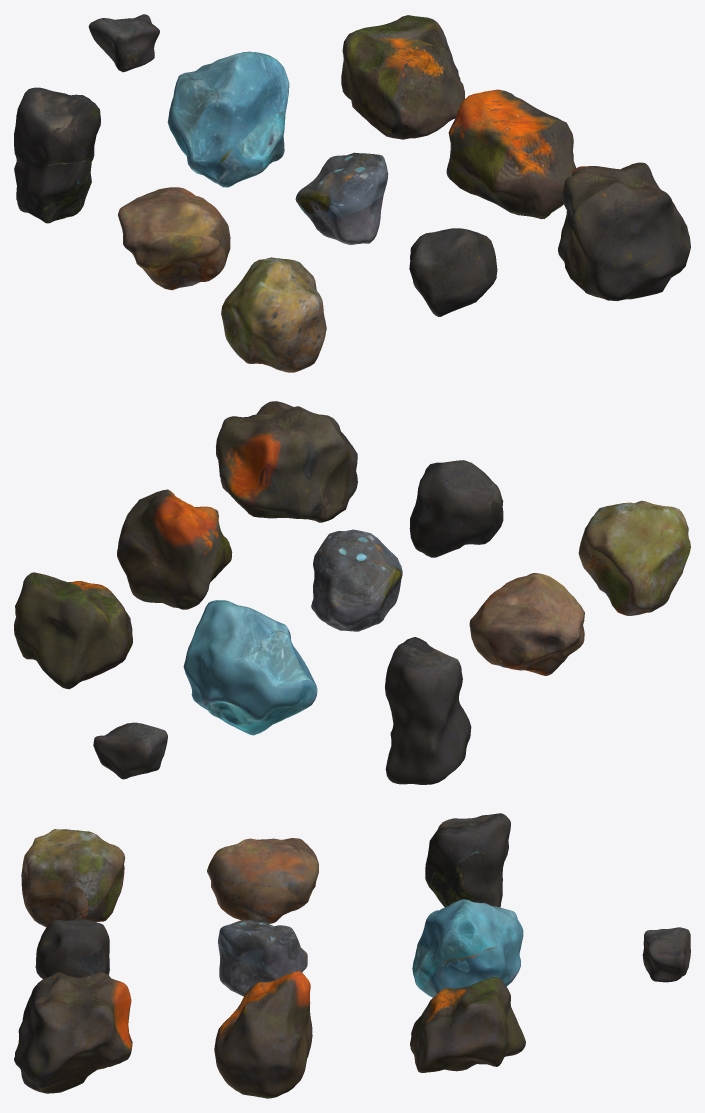
File: _0615190711_texture.fbx
The picture shows the model from 3 angles, top to bottom: view 1: azimuth 30°, elevation 25°; view 2: azimuth 150°, elevation 25°; view 3: azimuth 270°, elevation 25°; orthographic projection. The views are drawn at different scales.
Parts seen in each view (by area): view 1: Mesh_0; view 2: Mesh_0; view 3: Mesh_0.
Part boxes in pixels (x1=…): Mesh_0: x1=14, y1=14, x2=690, y2=372; Mesh_0: x1=14, y1=401, x2=690, y2=784; Mesh_0: x1=14, y1=813, x2=690, y2=1098.
Size of the model in its own units: 142 by 37.76 by 200.
Materials: 1 (1 with a texture image).
